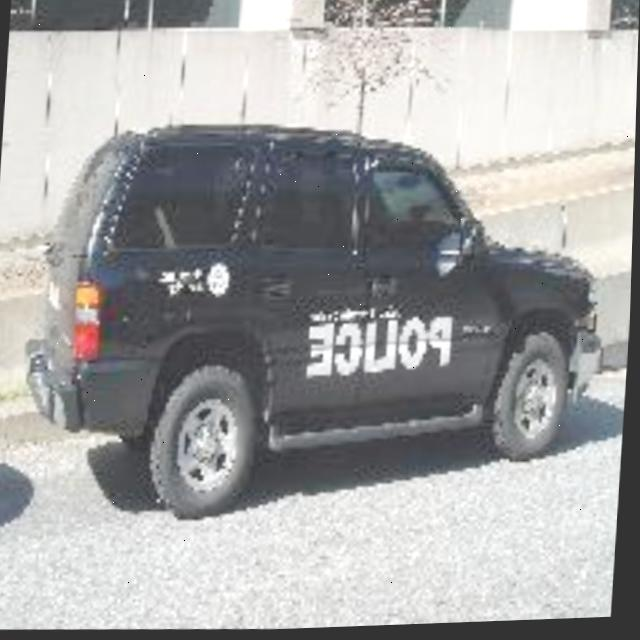emergency: (25, 115, 614, 537)
